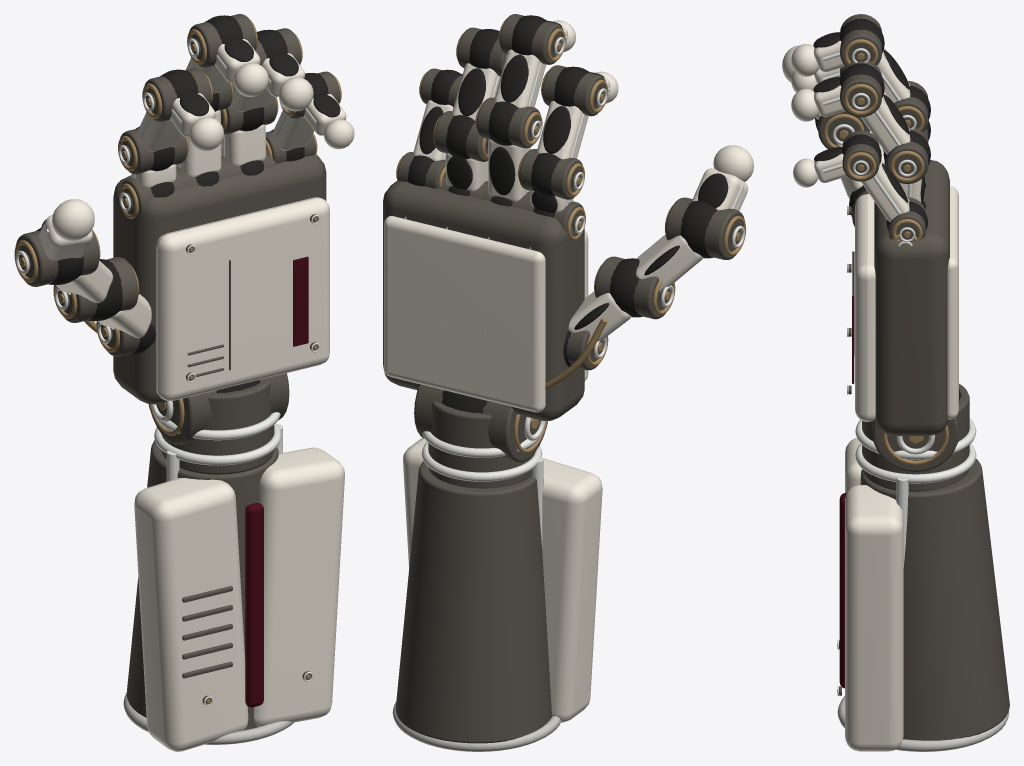
Rendered from hand.glb.
3 views of the same model, side by side, from view 1: azimuth 30°, elevation 25°; view 2: azimuth 150°, elevation 25°; view 3: azimuth 270°, elevation 25° (orthographic). The views are drawn at different scales.
Parts seen in each view (by area): view 1: RoboticHand; view 2: RoboticHand; view 3: RoboticHand.
Boxes of the visible parts, x1,y1,x2,y2 form: RoboticHand: [14, 14, 354, 751]; RoboticHand: [383, 14, 753, 751]; RoboticHand: [782, 14, 1009, 751].
Size of the model in its own units: 1.92 by 4 by 1.21.
